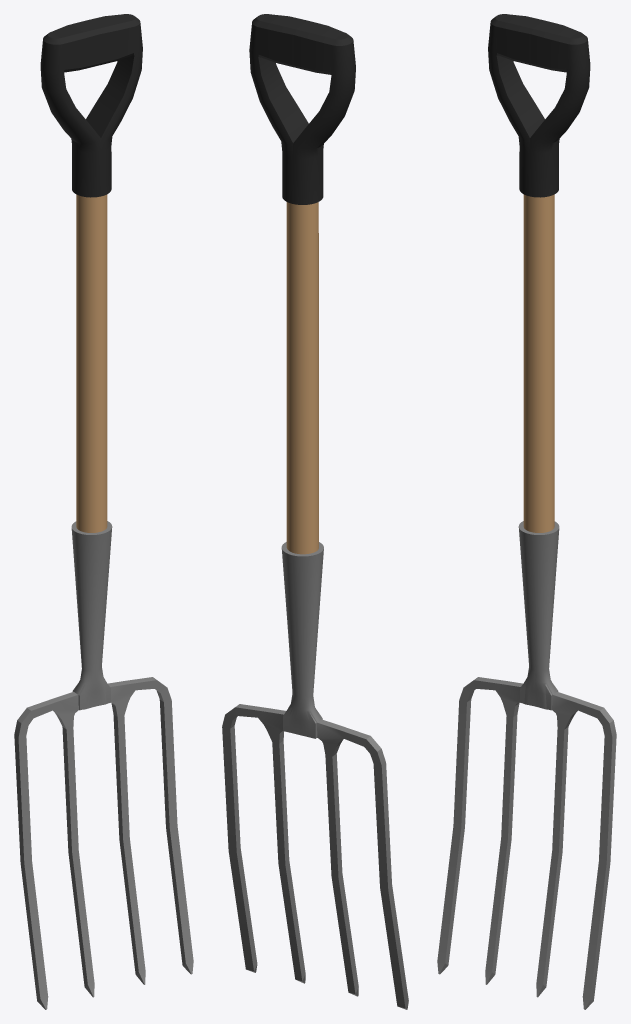
File: fork.fbx
3 renders of one model, left to right at view 1: azimuth 30°, elevation 25°; view 2: azimuth 150°, elevation 25°; view 3: azimuth 330°, elevation 25°, orthographic. The views are drawn at different scales.
Parts seen in each view (by area): view 1: Cylinder.007; view 2: Cylinder.007; view 3: Cylinder.007.
Part boxes in pixels (x1,y1,x2,y2): Cylinder.007: (14,14,193,1009); Cylinder.007: (222,14,408,1009); Cylinder.007: (437,14,616,1009).
Size of the model in its own units: 101 by 594 by 42.84.
